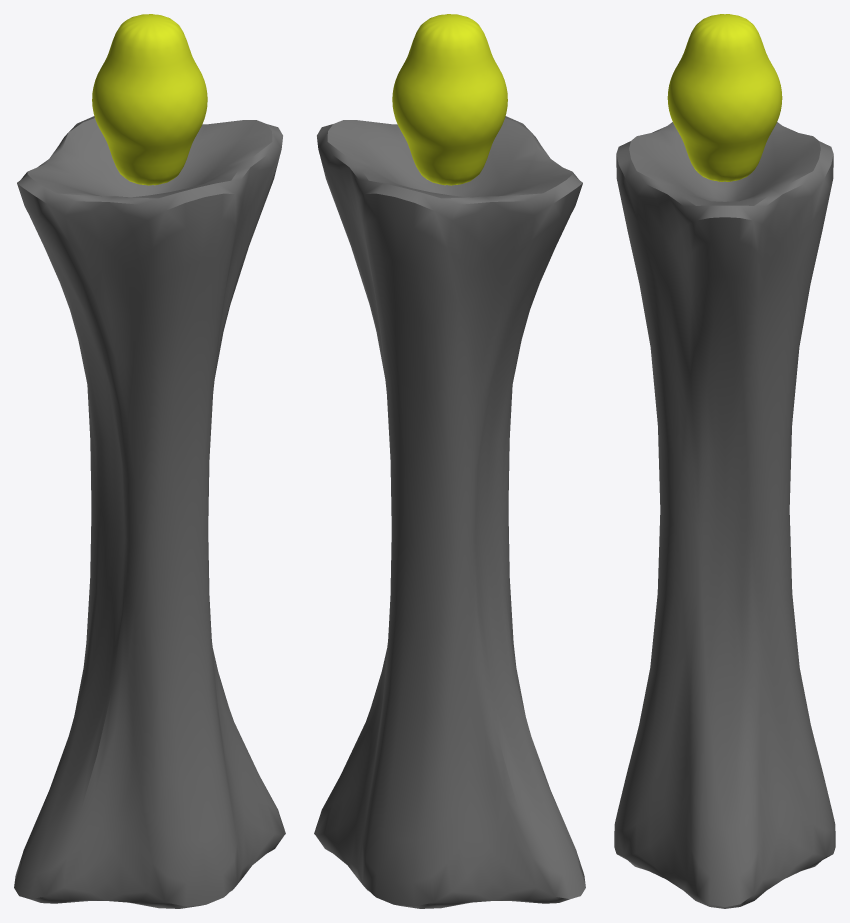
The model's file is Lights 1.fbx.
3 views of the same model, side by side, from view 1: azimuth 30°, elevation 25°; view 2: azimuth 150°, elevation 25°; view 3: azimuth 270°, elevation 25° (orthographic).
Parts seen in each view (by area): view 1: Cube, Sphere; view 2: Cube, Sphere; view 3: Cube, Sphere.
Part boxes in pixels (x1,y1,x2,y2): Cube: [14, 116, 285, 908]; Sphere: [92, 14, 207, 185]; Cube: [314, 116, 585, 908]; Sphere: [392, 14, 507, 185]; Cube: [614, 122, 835, 908]; Sphere: [667, 14, 782, 181].
Size of the model in its own units: 111 by 345 by 83.05.
